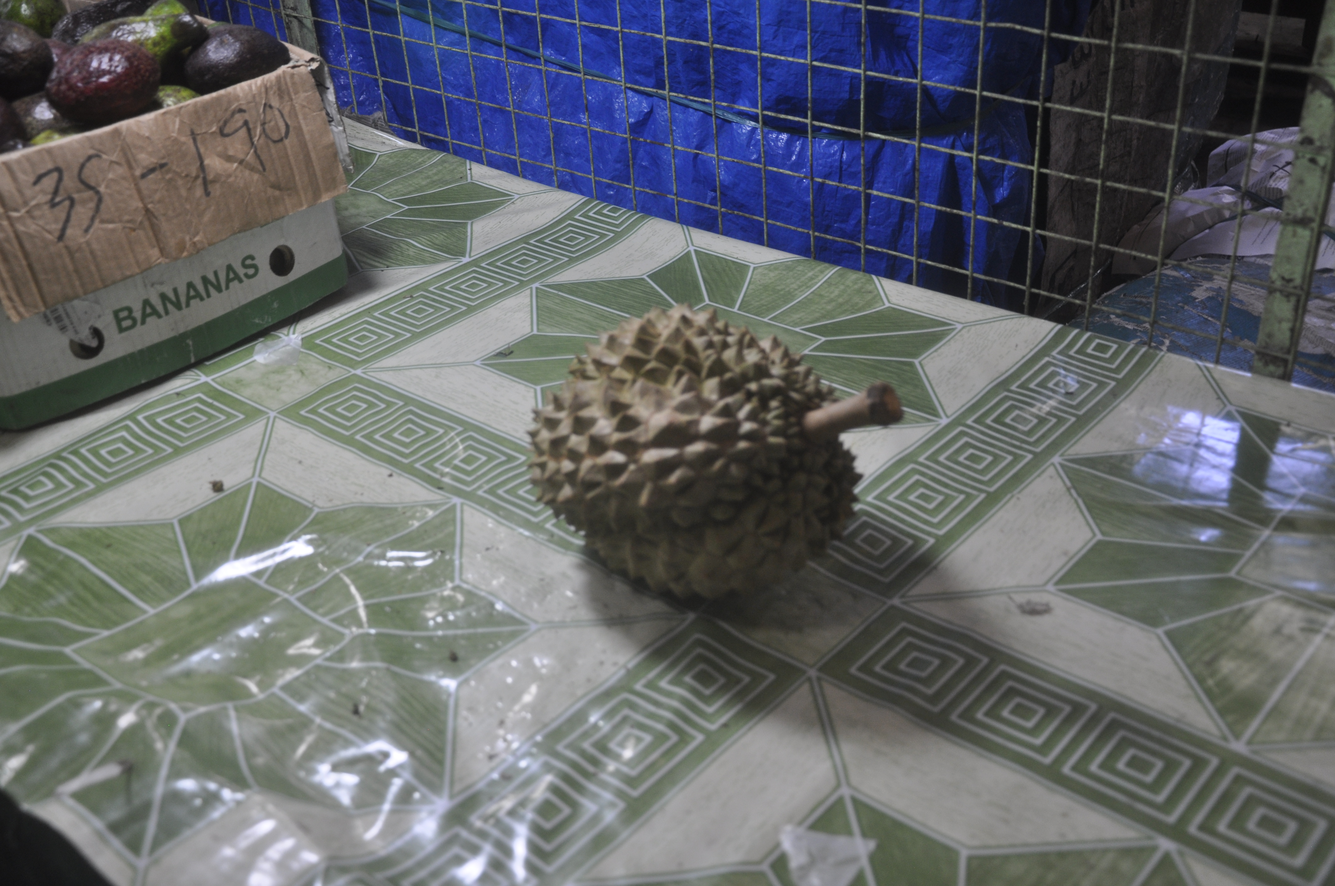mature: (529, 304, 903, 599)
